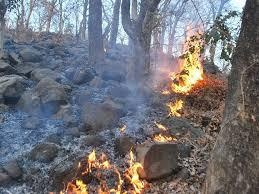fire: (61, 146, 145, 194), (164, 23, 207, 92), (152, 120, 178, 142), (165, 97, 184, 118)
